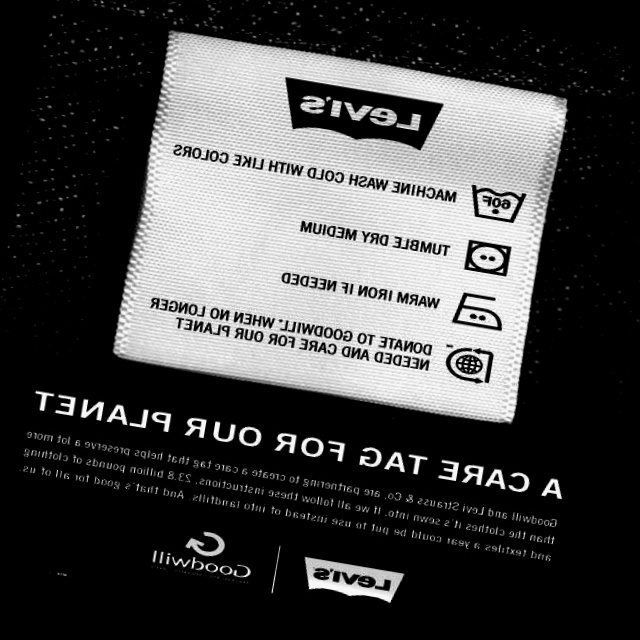30C: (463, 175, 530, 230)
iron_medium: (447, 285, 510, 337)
tumble_dry_medium: (458, 236, 517, 282)
